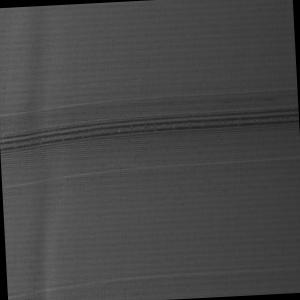Wrinkle: (1, 6, 67, 300)
